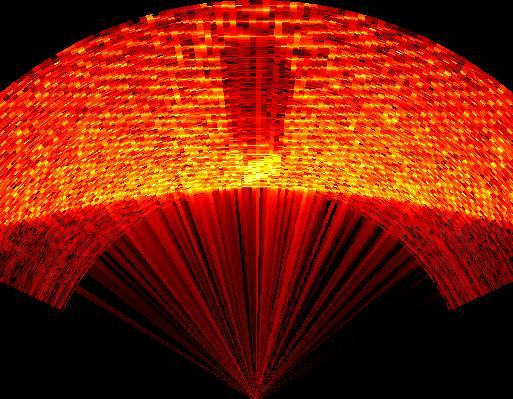box_crate: (219, 32, 299, 153)
